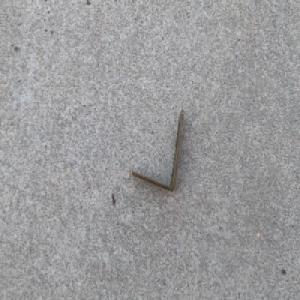MetalPart: (130, 107, 185, 192)
